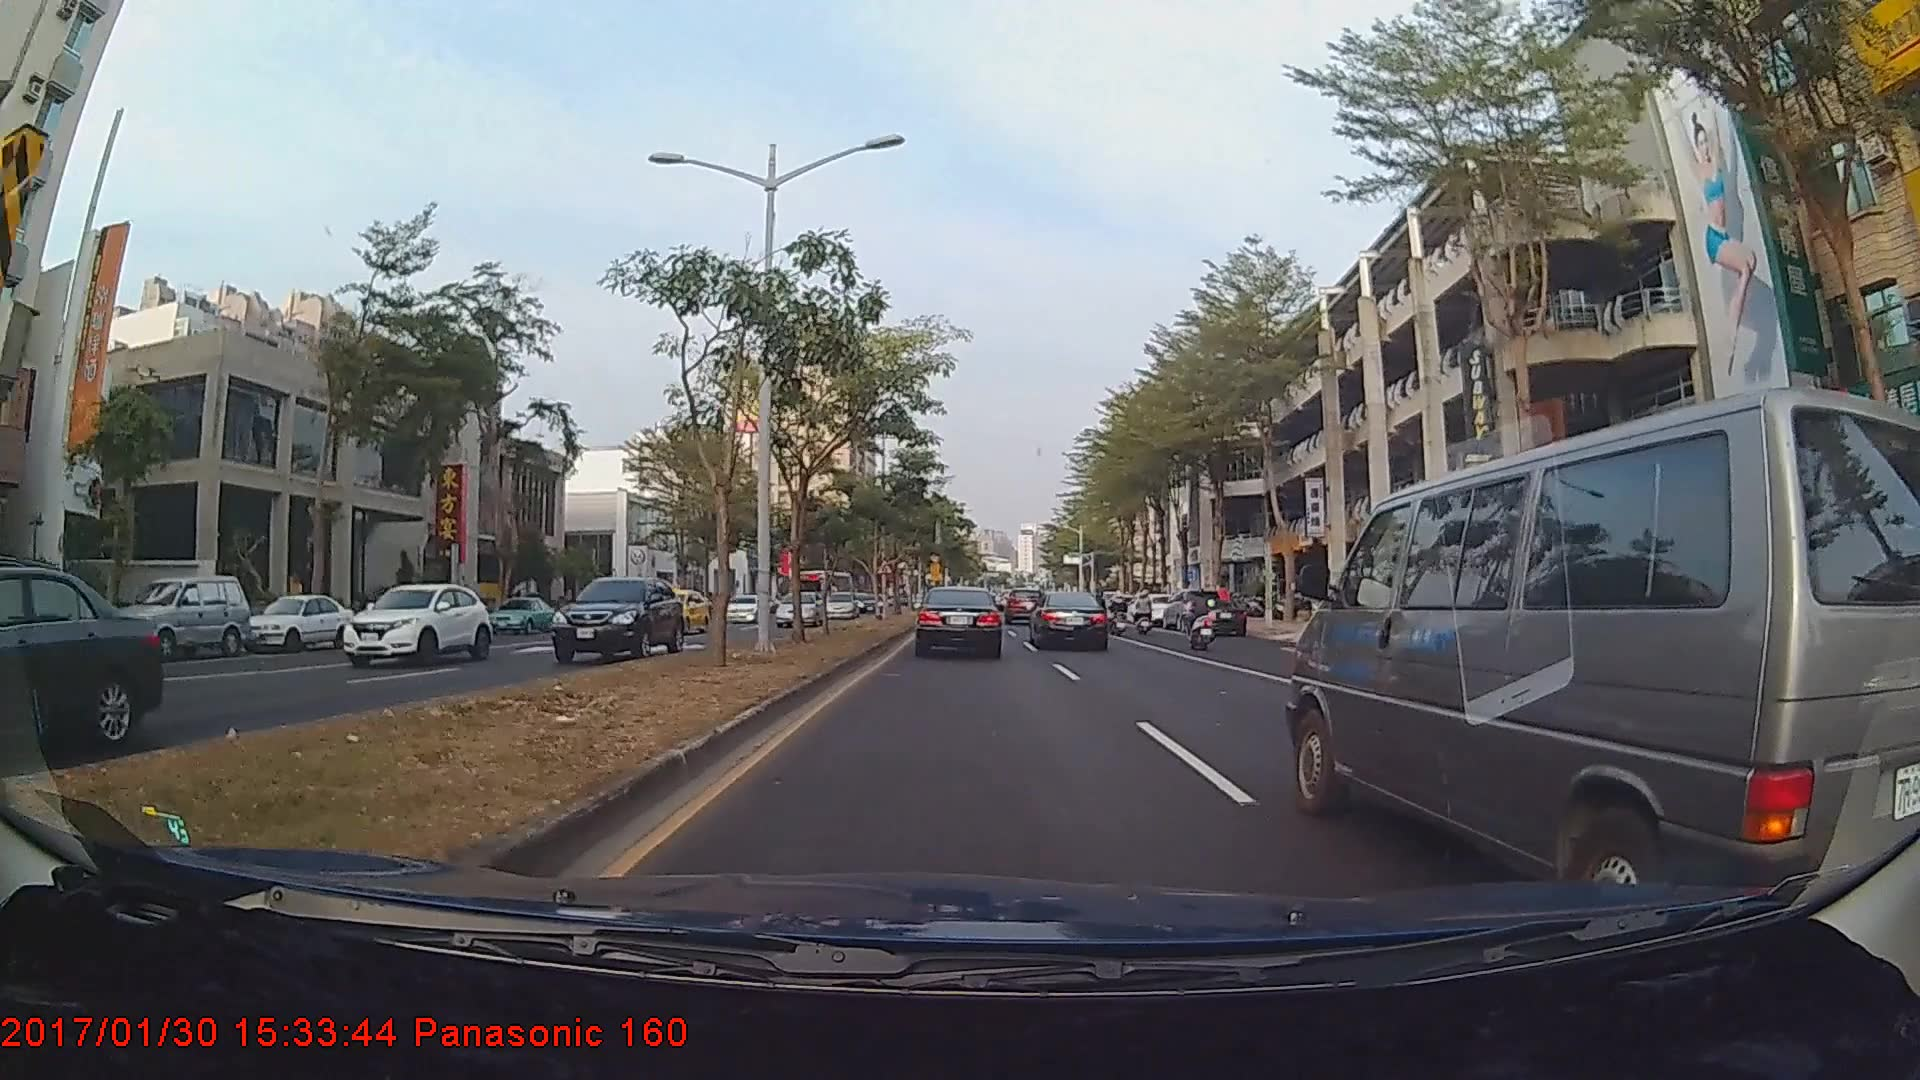rider: (1181, 584, 1218, 652), (1131, 588, 1158, 640)
vehicle: (1286, 400, 1896, 903), (0, 563, 165, 749), (335, 580, 492, 671), (546, 573, 683, 663), (116, 574, 247, 657), (917, 583, 1002, 657), (1031, 590, 1109, 650), (637, 587, 709, 633), (1175, 598, 1245, 638), (794, 567, 853, 612), (776, 589, 826, 629), (716, 592, 766, 622), (1005, 587, 1043, 622), (821, 588, 859, 618)
